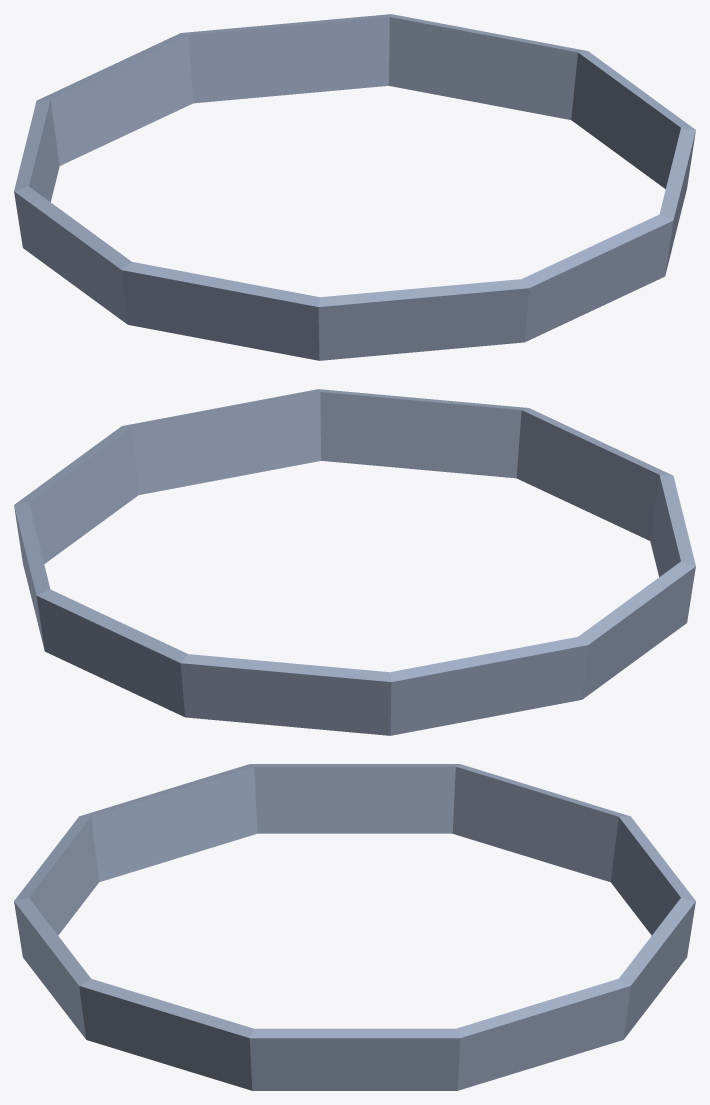
Rendered from barrel-017.glb.
3 renders of one model, top to bottom at view 1: azimuth 30°, elevation 25°; view 2: azimuth 150°, elevation 25°; view 3: azimuth 270°, elevation 25°, orthographic. The views are drawn at different scales.
Visible parts, largest first — view 1: barrel.017; view 2: barrel.017; view 3: barrel.017.
Part boxes in pixels (left/top/right/bottom): barrel.017: left=14, top=14, right=695, bottom=360; barrel.017: left=14, top=389, right=695, bottom=735; barrel.017: left=14, top=764, right=695, bottom=1090.
Size of the model in its own units: 1.9 by 0.2044 by 2.
